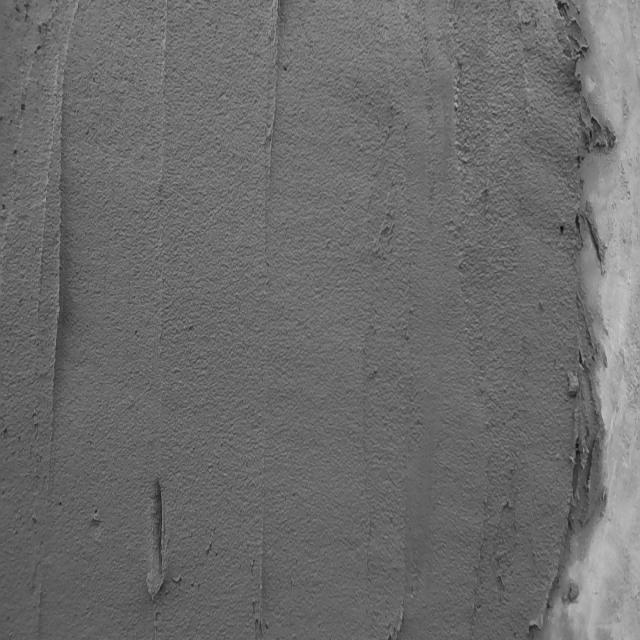trowels marks: (42, 34, 70, 450), (260, 0, 279, 225)
